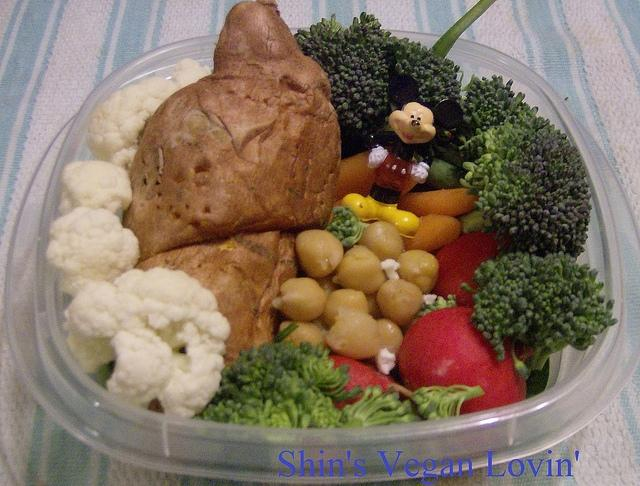broccoli: (293, 12, 462, 144), (456, 107, 592, 259), (462, 251, 618, 382), (436, 73, 526, 162), (261, 360, 348, 428), (189, 398, 311, 428), (344, 384, 420, 428), (412, 384, 484, 420), (324, 204, 372, 248), (404, 294, 458, 332)
carrot: (336, 146, 392, 202), (402, 214, 462, 252), (398, 188, 478, 216)
cauliflower: (66, 266, 230, 418), (86, 76, 180, 173), (46, 206, 142, 298), (58, 160, 132, 216), (172, 58, 212, 89), (375, 348, 396, 374), (380, 258, 400, 279), (423, 294, 437, 305)
tomato: (400, 306, 526, 414), (430, 230, 510, 308), (329, 355, 396, 410)
